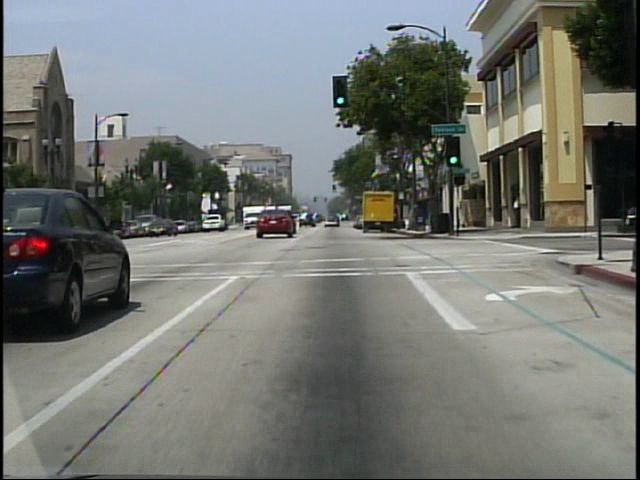person: (512, 195, 520, 229)
